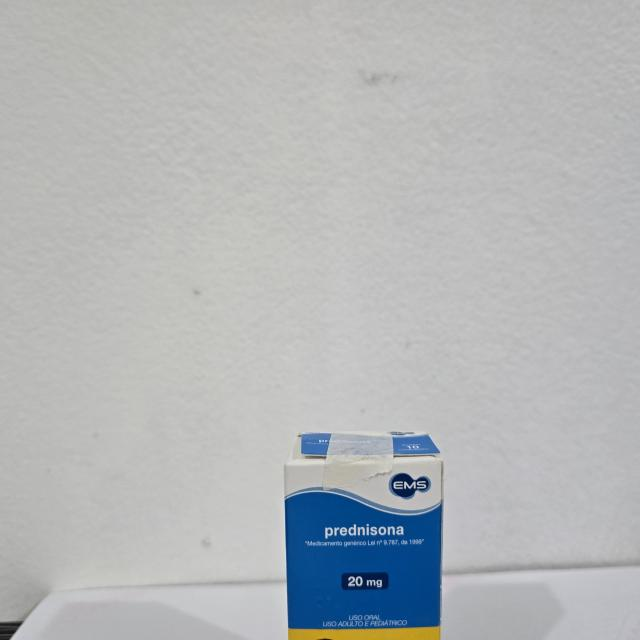prednisona: (278, 426, 449, 640)
